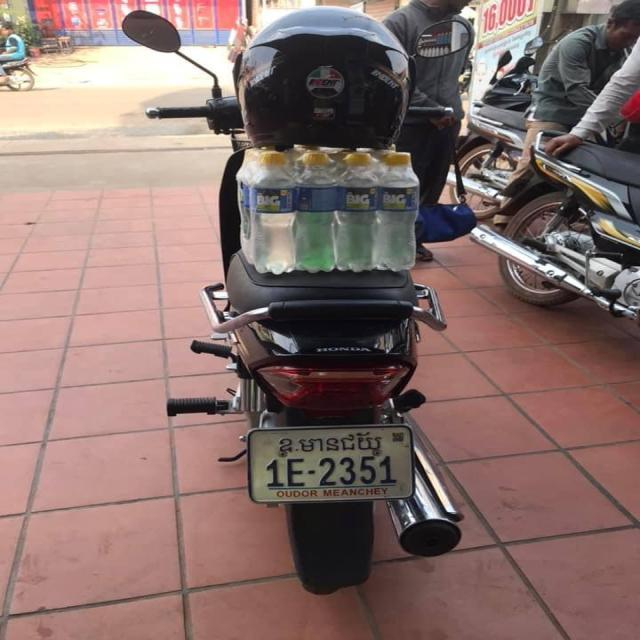Oudor_Meanchey: (279, 432, 382, 451)
